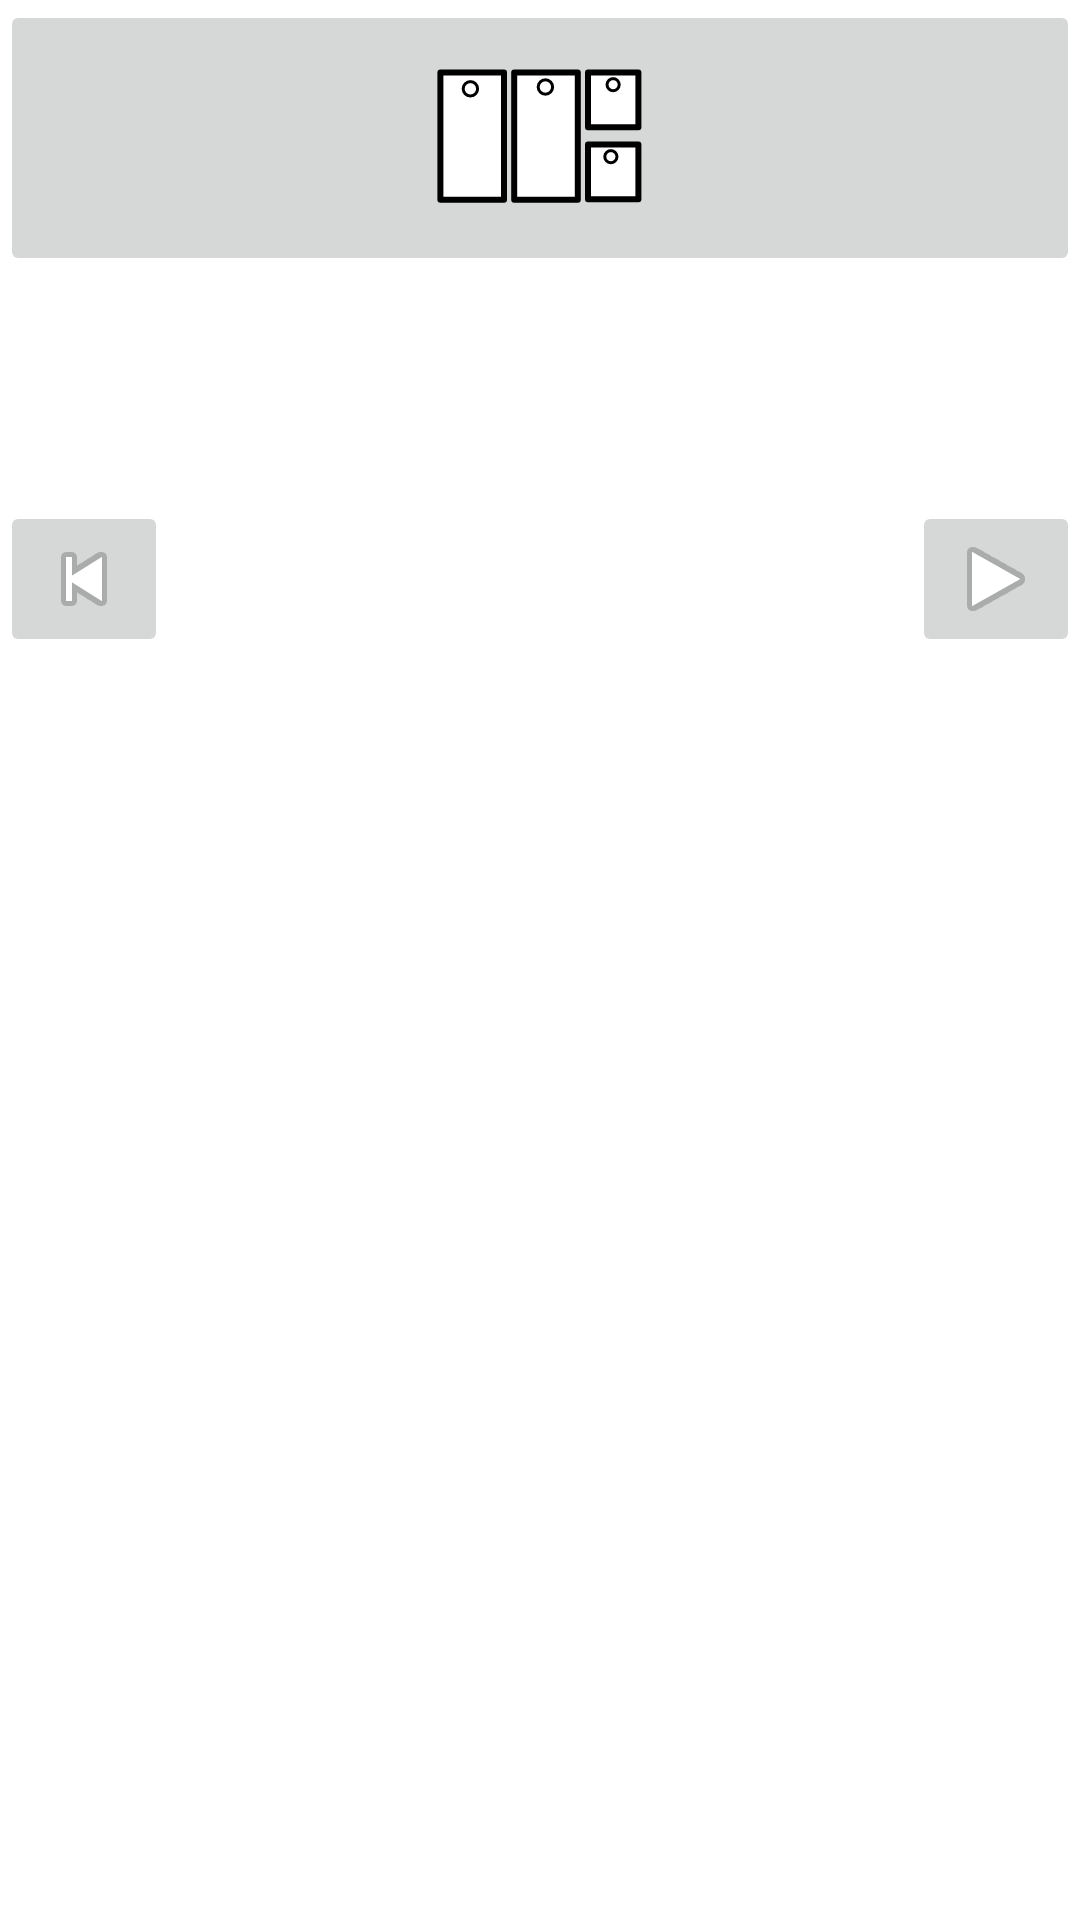

Where to tap for icons on this 1080x1920 app screen, as point (x, y):
play: point (996, 579)
previous: point (84, 579)
